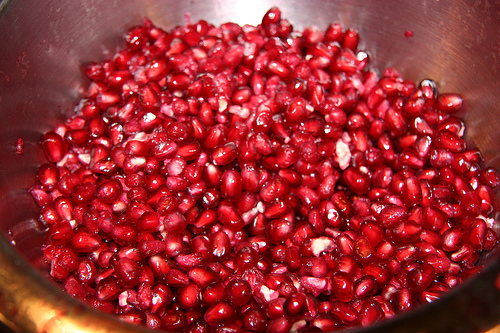pomogranate: (30, 5, 499, 332)
